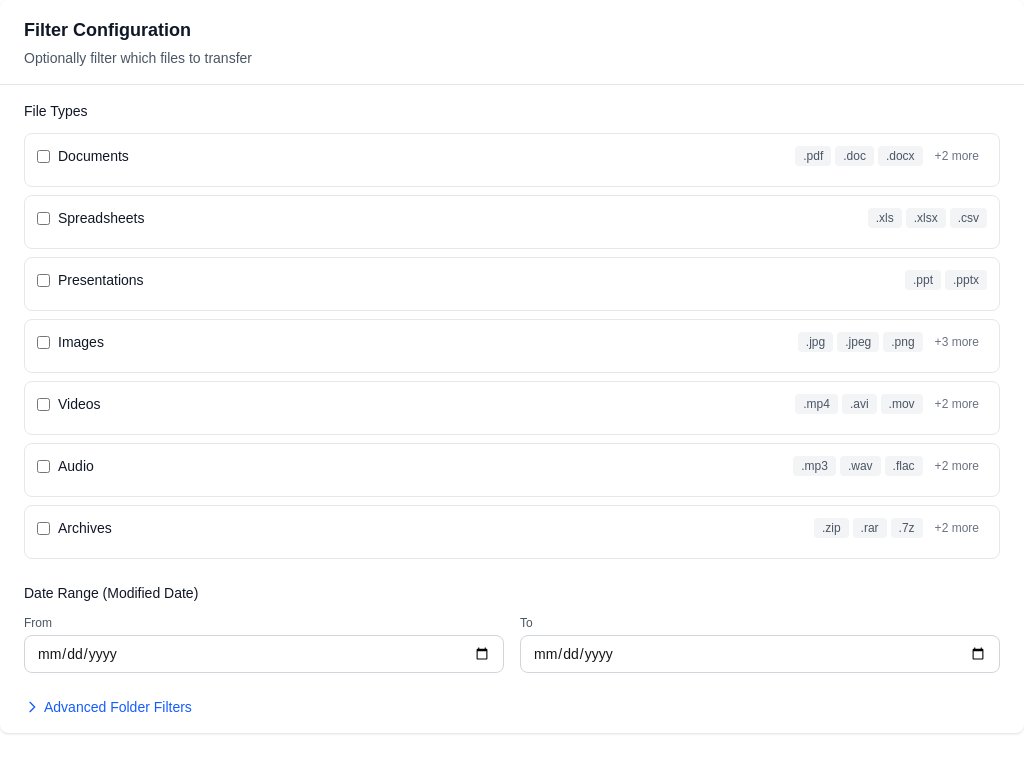
Scenario: FilterConfiguration Component › shows active filters summary when filters are applied
Select Documents
Click the checkbox named "Documents" at (44, 156), box 37,150 -> 50,162
(page scrolled)
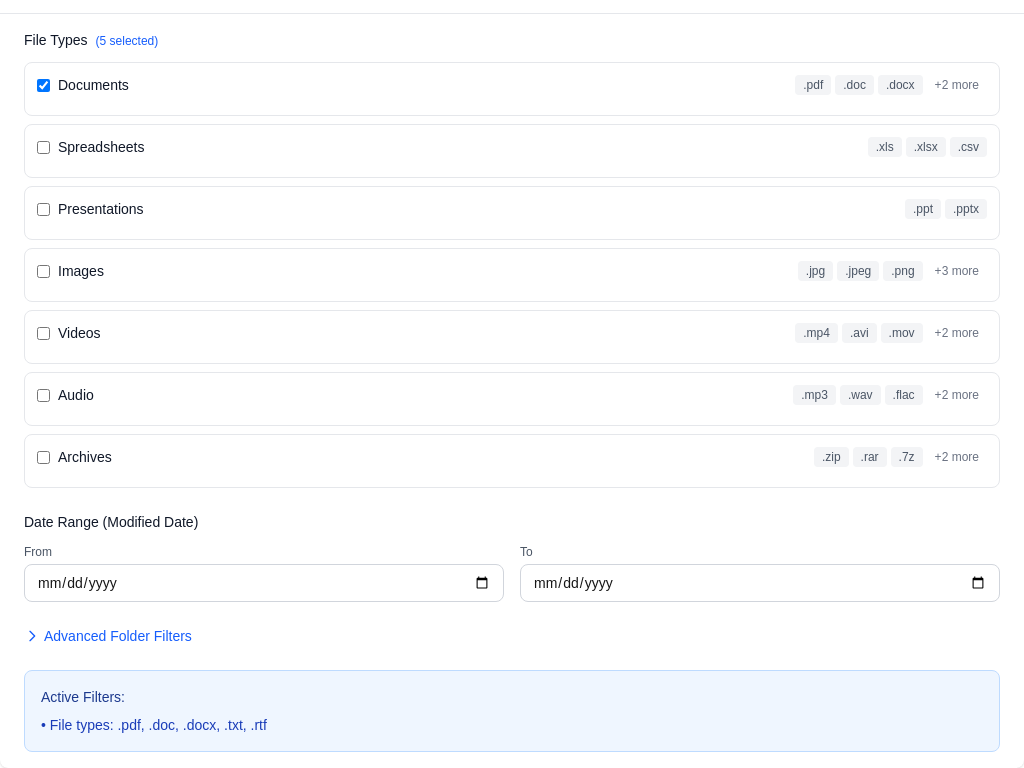
Now the heading "Active Filters:" is shown, box 41,689 -> 125,705
